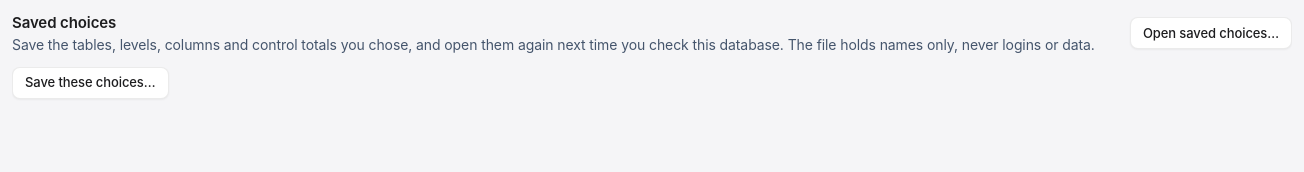
CheckChoicesFile › in the browser demo, says files cannot be saved instead of pretending
Click the button "Save these choices…" at (90,82), box [12,66,168,98]
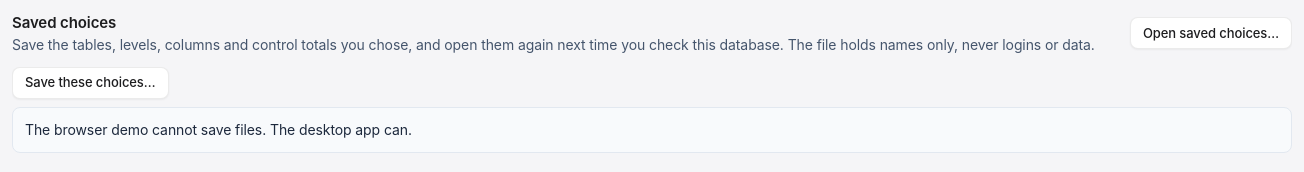
Now the text "The browser demo cannot save files. The desktop app can." is shown, box [25,120,412,138]
